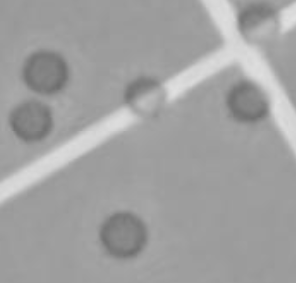cell: (94, 205, 153, 262), (117, 70, 172, 127), (18, 43, 73, 99), (233, 1, 288, 55), (4, 95, 59, 146), (221, 72, 272, 125)
